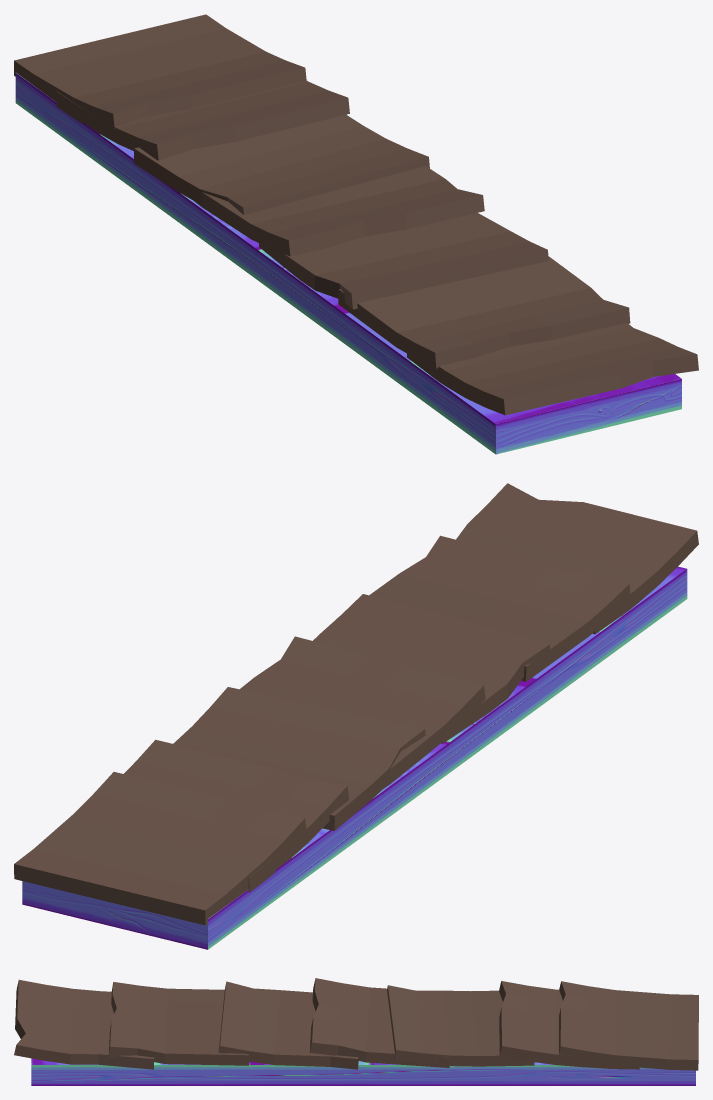
Rendered from SM_RoofTrim_B.fbx.
3 renders of one model, top to bottom at view 1: azimuth 30°, elevation 25°; view 2: azimuth 150°, elevation 25°; view 3: azimuth 270°, elevation 25°, orthographic. The views are drawn at different scales.
Parts seen in each view (by area): view 1: SM_RoofTrim_B; view 2: SM_RoofTrim_B; view 3: SM_RoofTrim_B.
Part boxes in pixels (box(x1,y1,x2,y2)): SM_RoofTrim_B: box(14, 14, 698, 454); SM_RoofTrim_B: box(14, 483, 698, 949); SM_RoofTrim_B: box(14, 978, 698, 1085).
Bounding box in the file's own units: 34.57 × 10.63 × 147.
